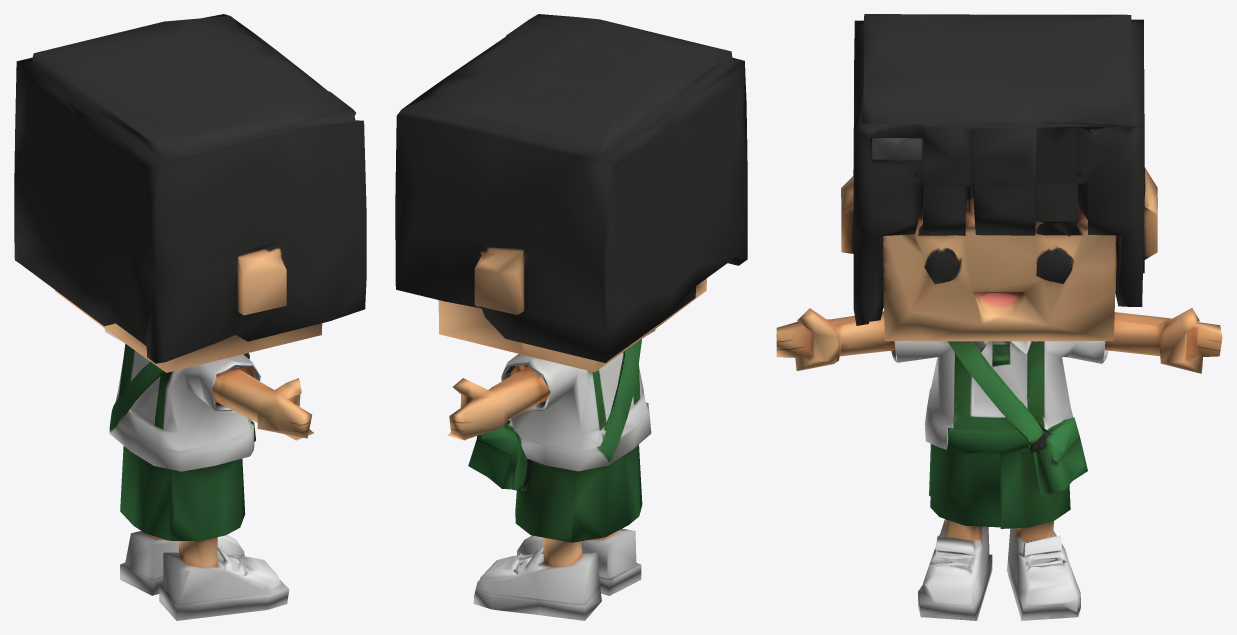
The model's file is student.glb.
3 renders of one model, left to right at view 1: azimuth 30°, elevation 25°; view 2: azimuth 150°, elevation 25°; view 3: azimuth 270°, elevation 25°, orthographic. The views are drawn at different scales.
Visible parts, largest first — view 1: tripo_node_795dd09f-b1fe-4911-a9d0-a25357ce21bf; view 2: tripo_node_795dd09f-b1fe-4911-a9d0-a25357ce21bf; view 3: tripo_node_795dd09f-b1fe-4911-a9d0-a25357ce21bf.
Part boxes in pixels (x1,y1,x2,y2): tripo_node_795dd09f-b1fe-4911-a9d0-a25357ce21bf: [14, 14, 366, 620]; tripo_node_795dd09f-b1fe-4911-a9d0-a25357ce21bf: [395, 14, 747, 620]; tripo_node_795dd09f-b1fe-4911-a9d0-a25357ce21bf: [776, 14, 1222, 620].
Size of the model in its own units: 0.4406 by 1 by 0.7675.
Materials: 1 (1 with a texture image).
